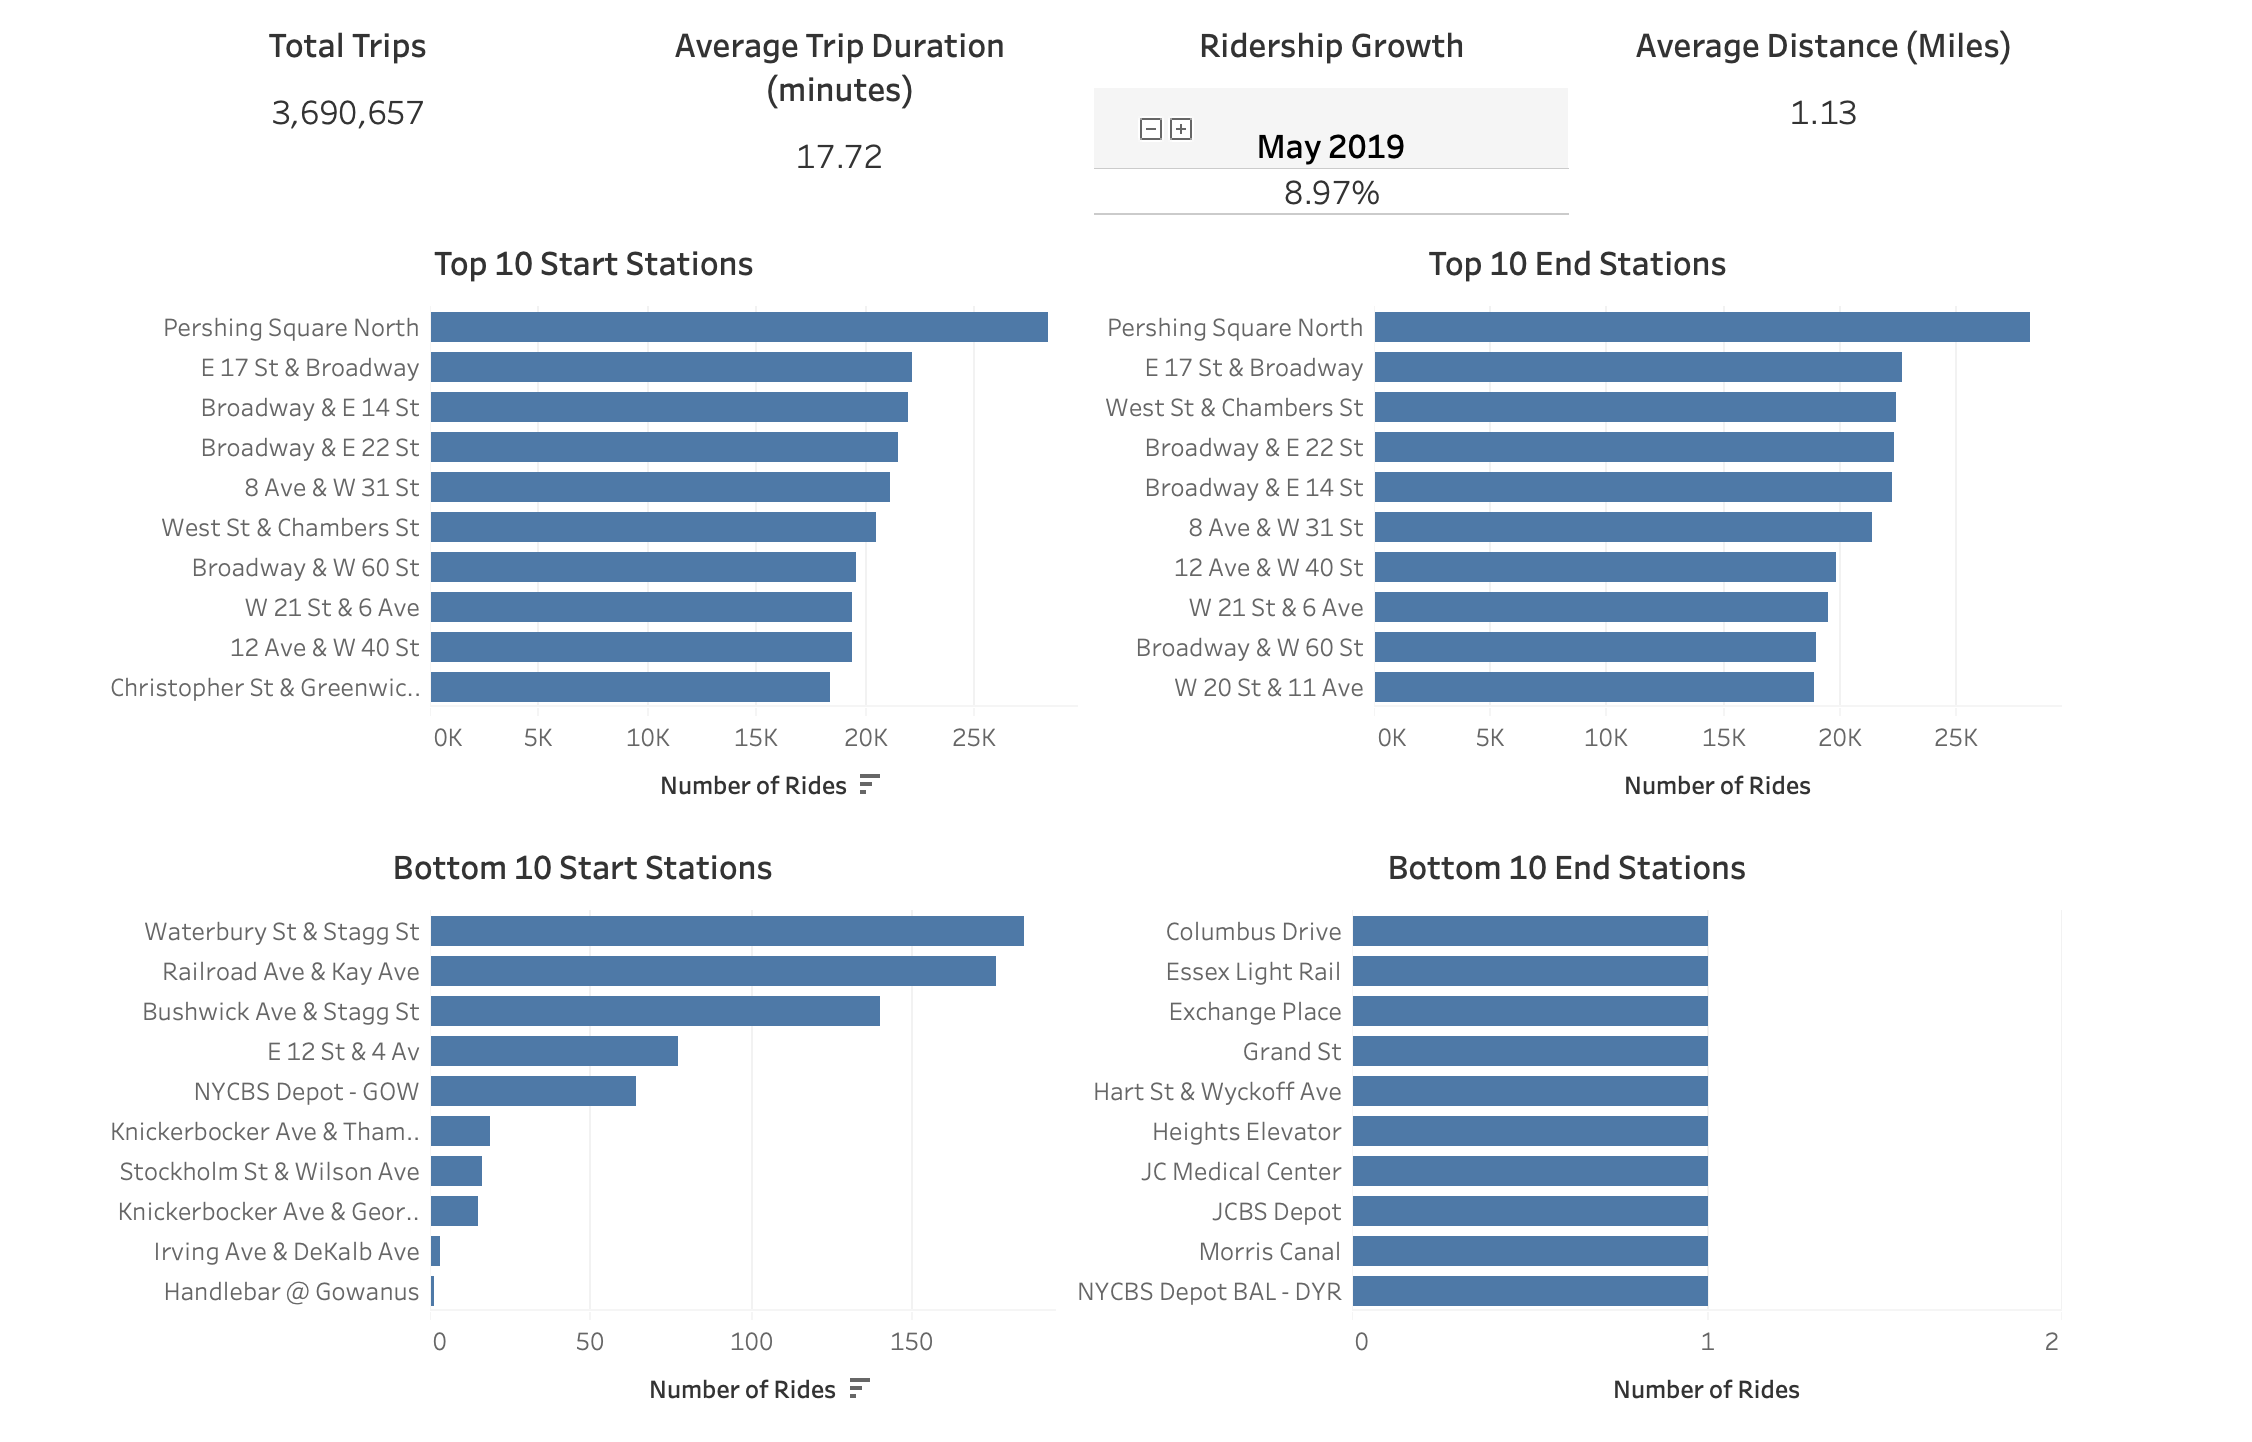

The page's visual inventory and layout, read from the dashboard file:
{"tool":"tableau","page":{"name":"Dashboard 1","canvas":[1000,800],"ordinal":0},"visuals":[{"type":"worksheet","title":"Total Trips","mark":"Automatic","box":[8,8,246,109]},{"type":"worksheet","title":"Average Trip Duration","mark":"Automatic","box":[254,8,246,109]},{"type":"worksheet","title":"Growth","mark":"Automatic","cols":["starttime"],"box":[500,8,246,109]},{"type":"worksheet","title":"Average Distance","mark":"Automatic","box":[746,8,246,109]},{"type":"worksheet","title":"Top 10 Start","mark":"Automatic","rows":["start station name"],"cols":["Number of Records"],"box":[8,117,492,302]},{"type":"worksheet","title":"Top 10 End","mark":"Automatic","rows":["end station name"],"cols":["Number of Records"],"box":[500,117,492,302]},{"type":"worksheet","title":"Bottom 10 Start","mark":"Automatic","rows":["start station name"],"cols":["Number of Records"],"box":[8,419,481,373]},{"type":"worksheet","title":"Bottom 10 End","mark":"Automatic","rows":["end station name"],"cols":["Number of Records"],"box":[489,419,503,373]}]}

Visuals, with their boxes on the page's 1000x800 design canvas (x1, y1, x2, y2). These are canvas units, not pixel positions in the 2252x1442 screenshot, which may show the page scaled, cropped or inside an application window:
"Total Trips" worksheet: BBox(8, 8, 254, 117)
"Average Trip Duration" worksheet: BBox(254, 8, 500, 117)
"Growth" worksheet: BBox(500, 8, 746, 117)
"Average Distance" worksheet: BBox(746, 8, 992, 117)
"Top 10 Start" worksheet: BBox(8, 117, 500, 419)
"Top 10 End" worksheet: BBox(500, 117, 992, 419)
"Bottom 10 Start" worksheet: BBox(8, 419, 489, 792)
"Bottom 10 End" worksheet: BBox(489, 419, 992, 792)
